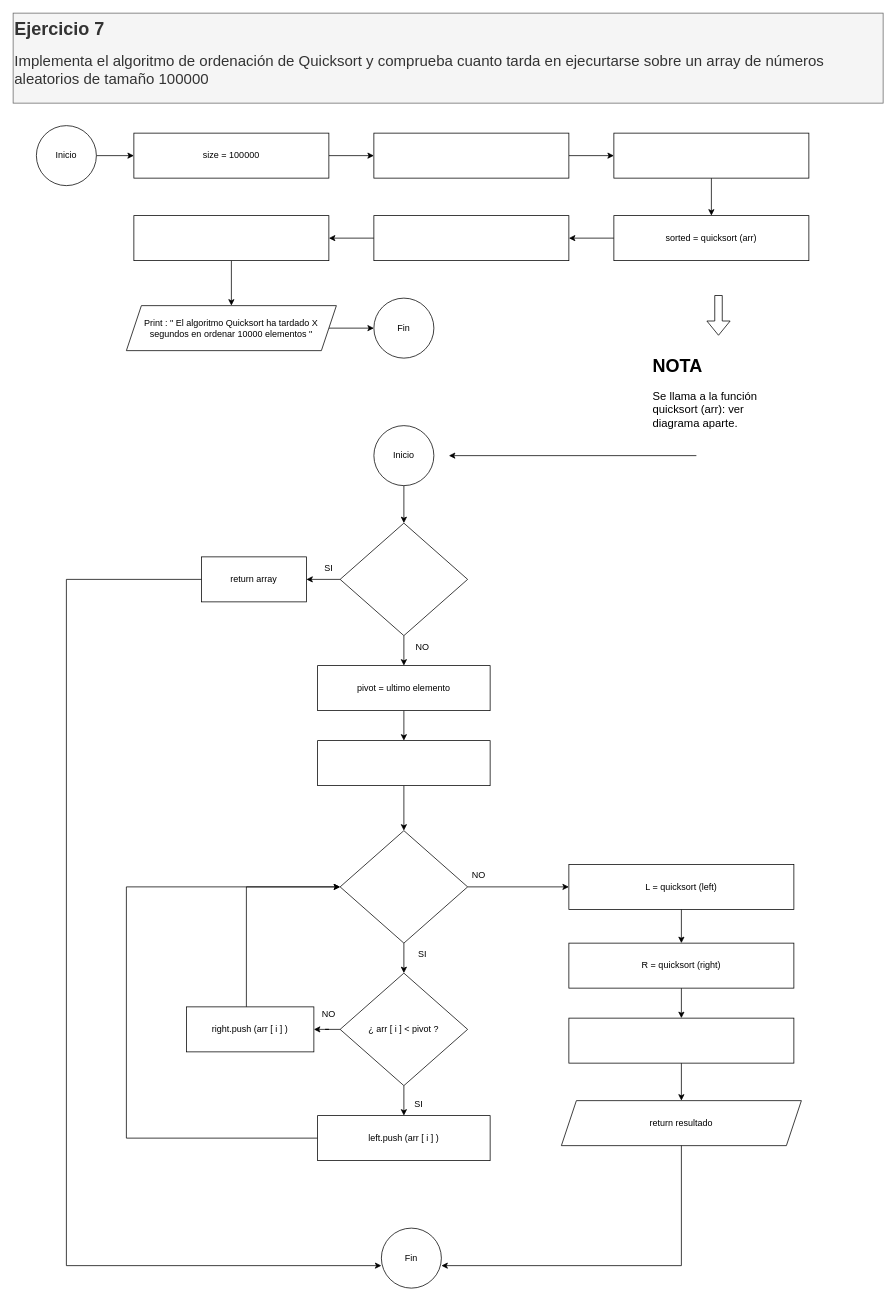
This 896x1301 diagram has some shape labels left out. The box of each missing label's shape, as (x1, y1, x2, y2) in pixels:
elapsed = (end - start) / 1000: (133, 215, 329, 261)
end = Date.now ( ): (373, 215, 569, 261)
generar array aleatorio arr: (373, 132, 569, 178)
left = [ ], right = [ ]: (317, 740, 490, 786)
resultado = [ . . . L , pivot , R ]: (568, 1017, 794, 1063)
start = Date.now ( ): (613, 132, 809, 178)
¿ arr.length < = 1 ?: (339, 522, 468, 636)
¿ quedan elementos por recorrer ?: (339, 830, 468, 943)
